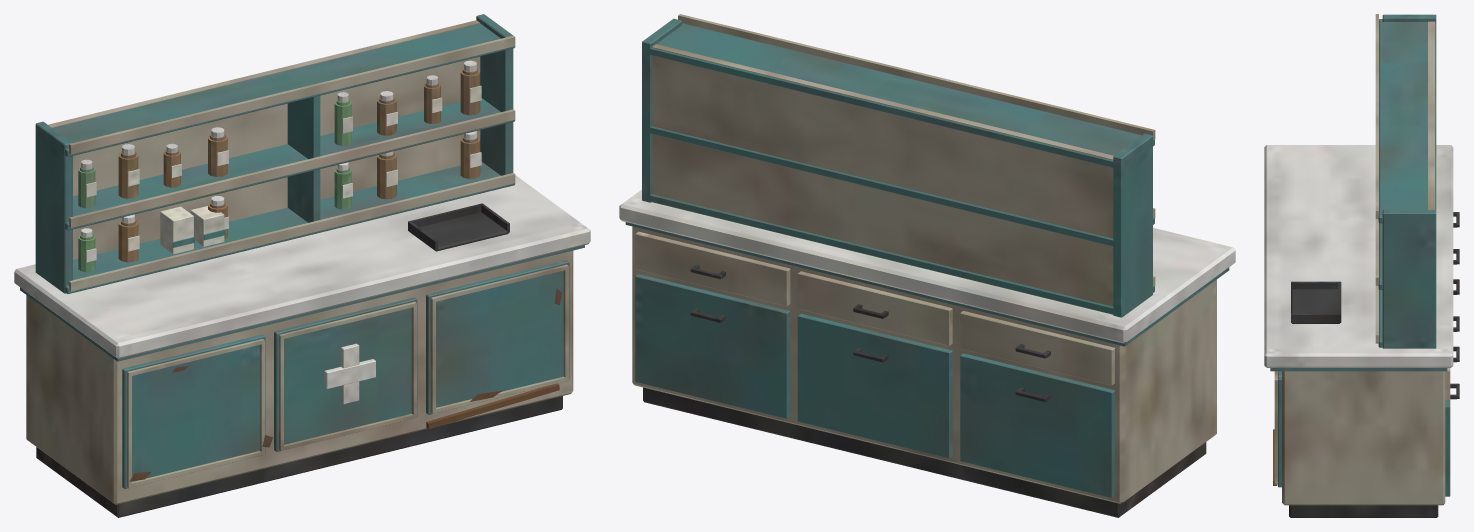
File: HE07_hospital_pharmacy_counter.glb
3 renders of one model, left to right at view 1: azimuth 30°, elevation 25°; view 2: azimuth 150°, elevation 25°; view 3: azimuth 270°, elevation 25°, orthographic. The views are drawn at different scales.
Visible parts, largest first — view 1: Recessed dark plinth; view 2: Recessed dark plinth; view 3: Recessed dark plinth.
Part boxes in pixels (x1,y1,x2,y2): Recessed dark plinth: (14, 14, 590, 517); Recessed dark plinth: (619, 14, 1235, 517); Recessed dark plinth: (1264, 14, 1459, 517).
Size of the model in its own units: 2.5 by 1.7 by 0.982.
Materials: 10 (10 with a texture image).
